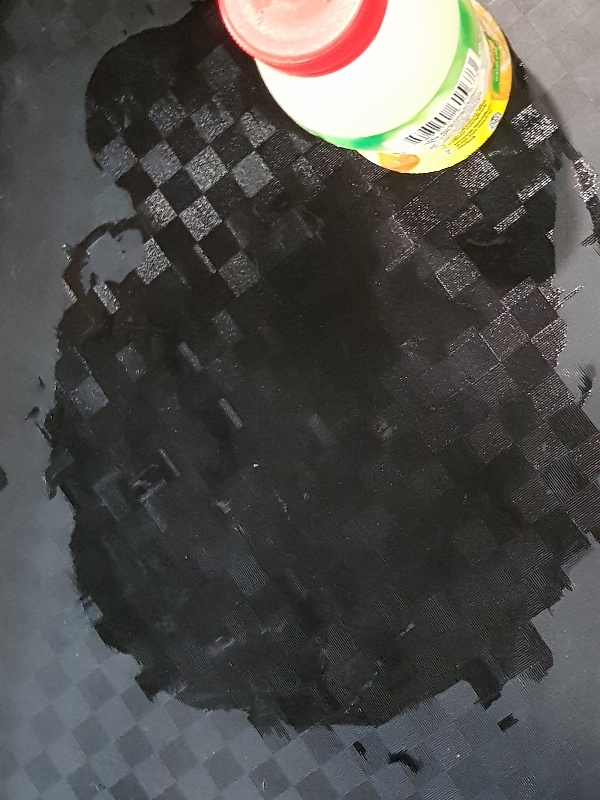Fruit Tree Yuzu Mixed Juice Drink: (215, 1, 514, 175)
